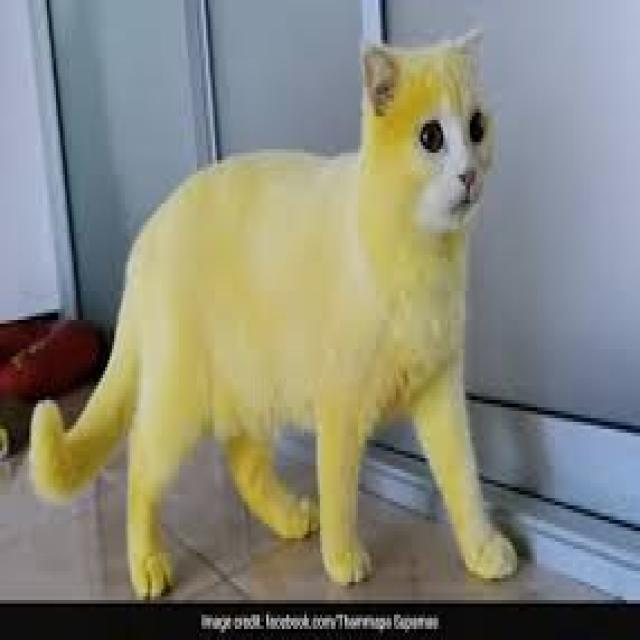cat: (337, 51, 493, 363)
